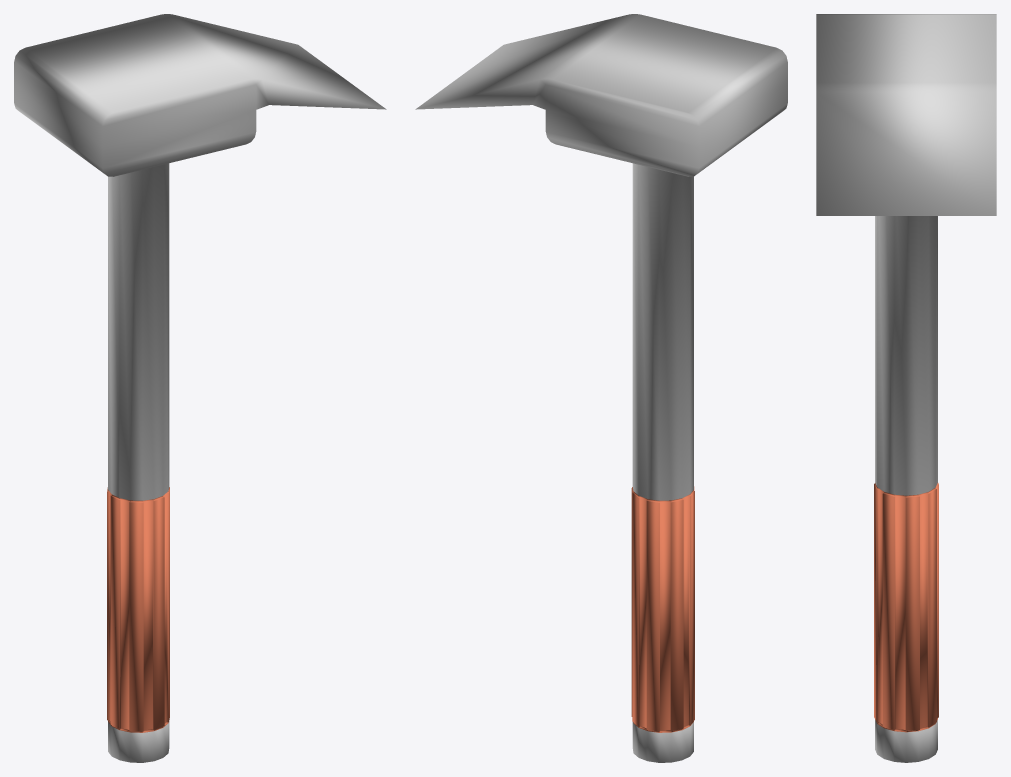
File: Hammer.glb
3 views of the same model, side by side, from view 1: azimuth 30°, elevation 25°; view 2: azimuth 150°, elevation 25°; view 3: azimuth 270°, elevation 25° (orthographic).
Parts seen in each view (by area): view 1: Cylinder.001; view 2: Cylinder.001; view 3: Cylinder.001.
Part boxes in pixels (x1,y1,x2,y2): Cylinder.001: (14, 14, 386, 762); Cylinder.001: (415, 14, 787, 762); Cylinder.001: (816, 14, 996, 762).
Bounding box in the file's own units: 0.9085 × 2.1 × 0.4906.
